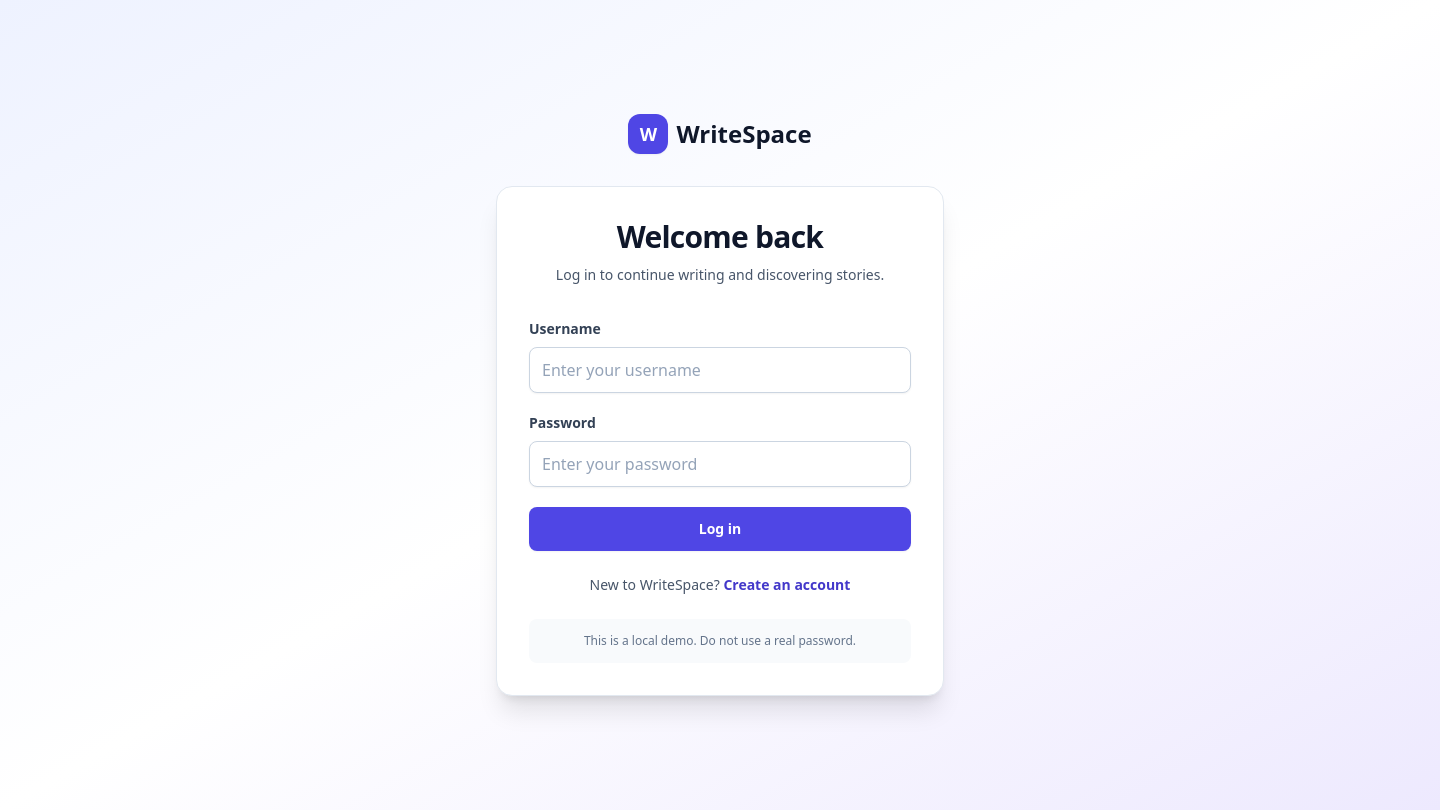
it: LoginPage › validates required fields before attempting authentication
Click the button "Log in": (720, 529) [529,507,911,551]
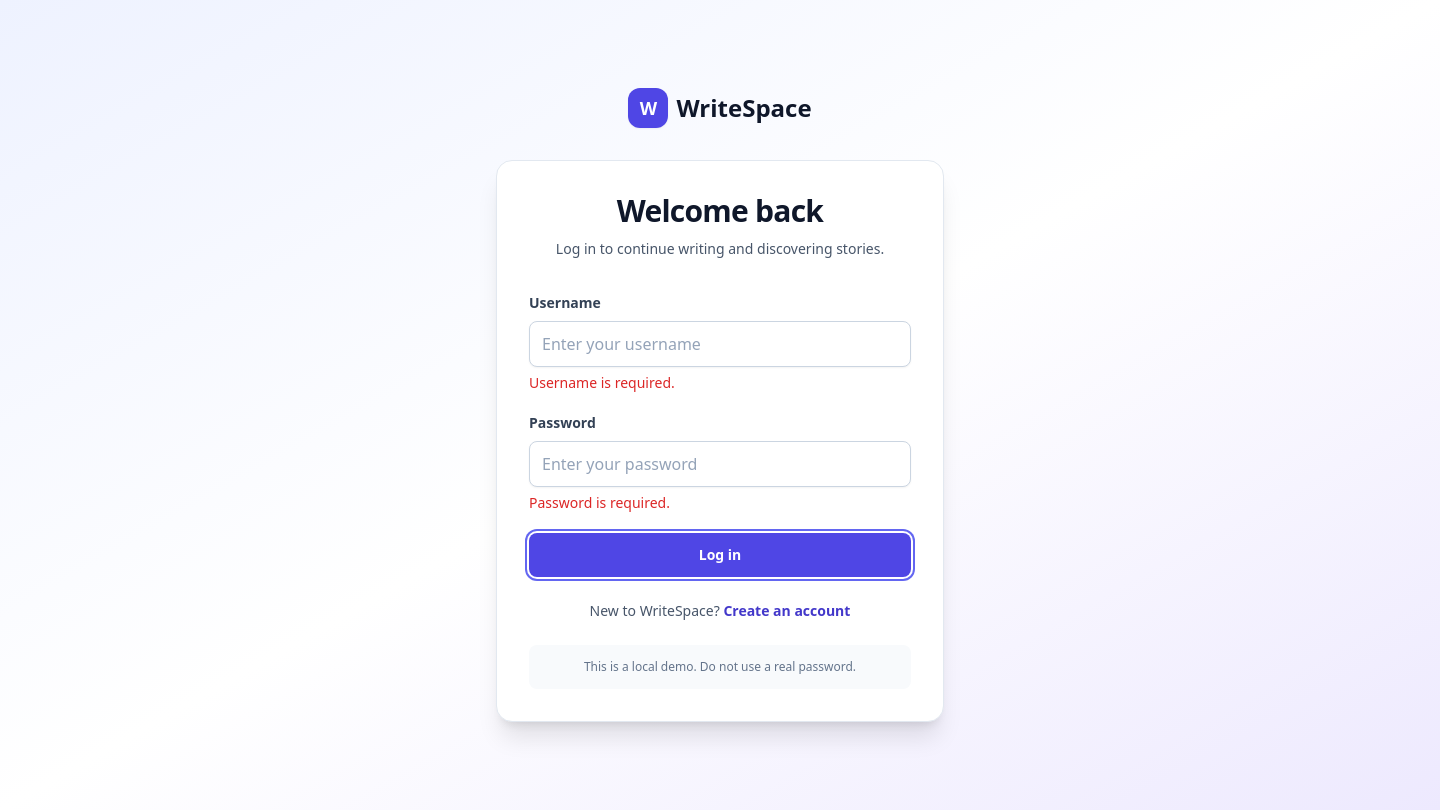
Result: the text "Username is required." is shown at [529,373,675,392]
Result: the text "Password is required." is shown at [529,493,670,512]
